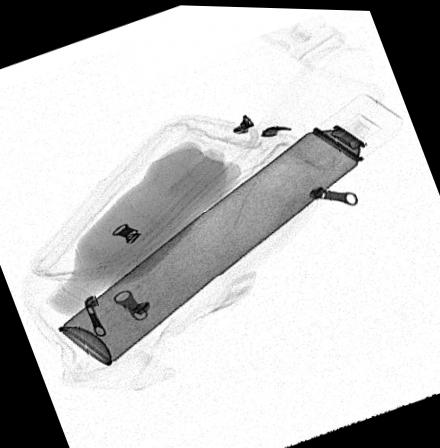Sprayer: (55, 91, 404, 366)
